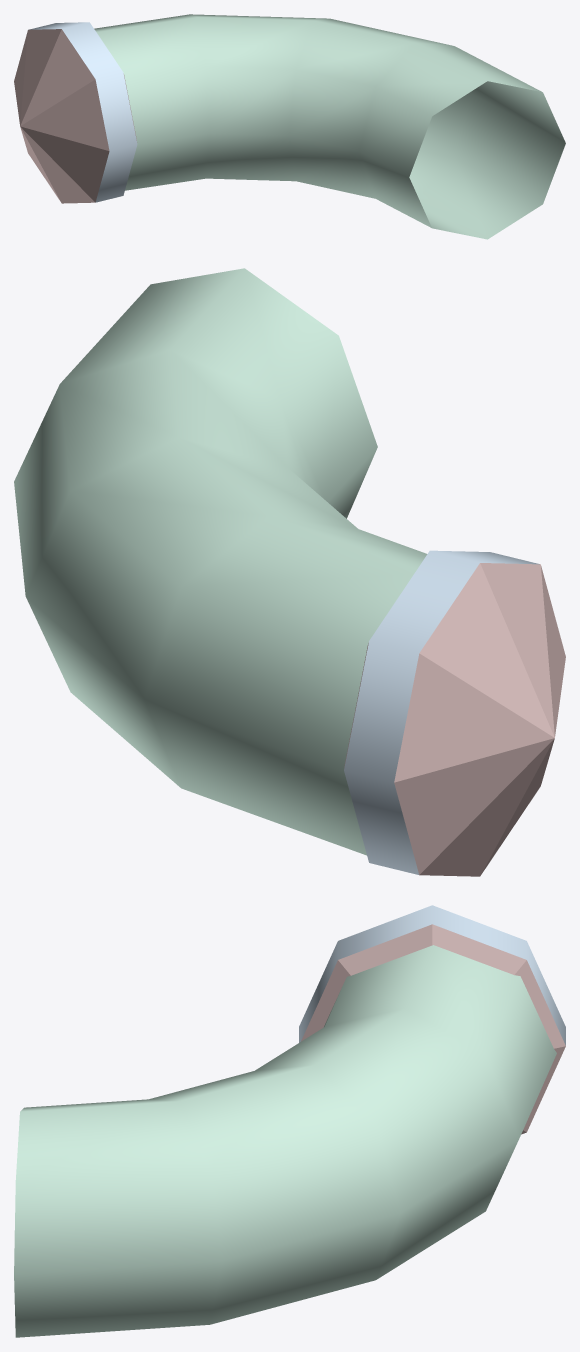
3 renders of one model, top to bottom at view 1: azimuth 30°, elevation 25°; view 2: azimuth 150°, elevation 25°; view 3: azimuth 270°, elevation 25°, orthographic. The views are drawn at different scales.
Parts seen in each view (by area): view 1: Object55; view 2: Object55; view 3: Object55.
Part boxes in pixels (<box>): Object55: <box>14,14,565,239</box>; Object55: <box>14,268,565,876</box>; Object55: <box>14,905,565,1337</box>.
Size of the model in its own units: 27610 by 11622 by 23831.
